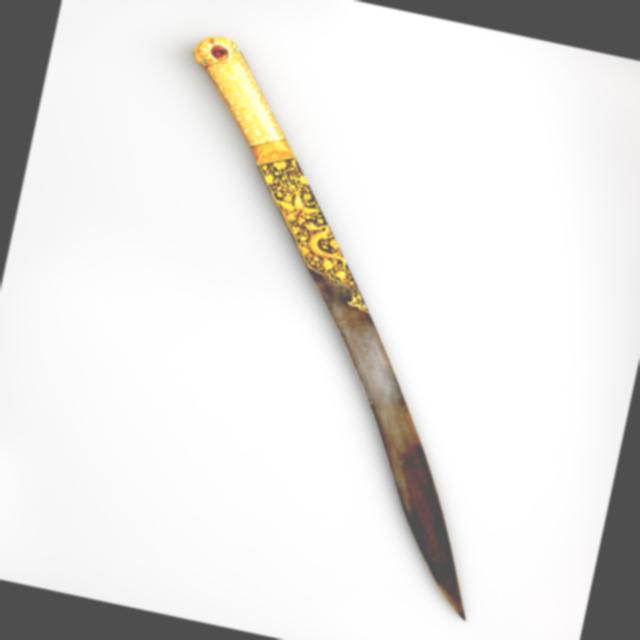short sword: (66, 14, 595, 633)
